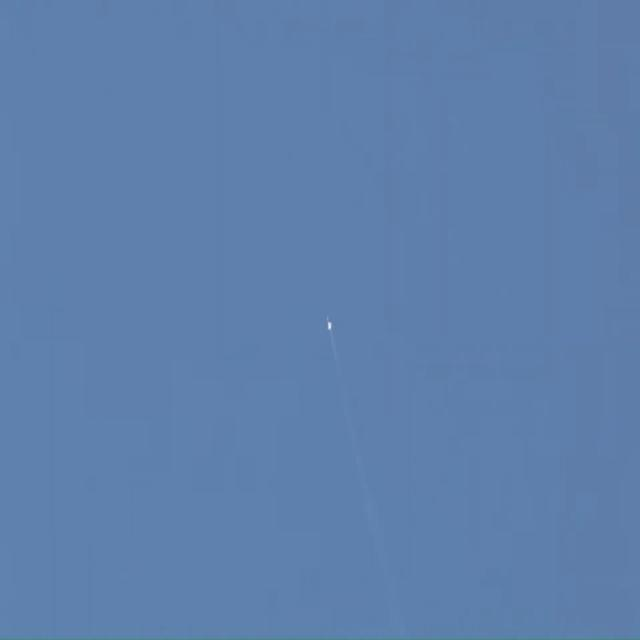Rocket: (327, 318, 332, 329)
